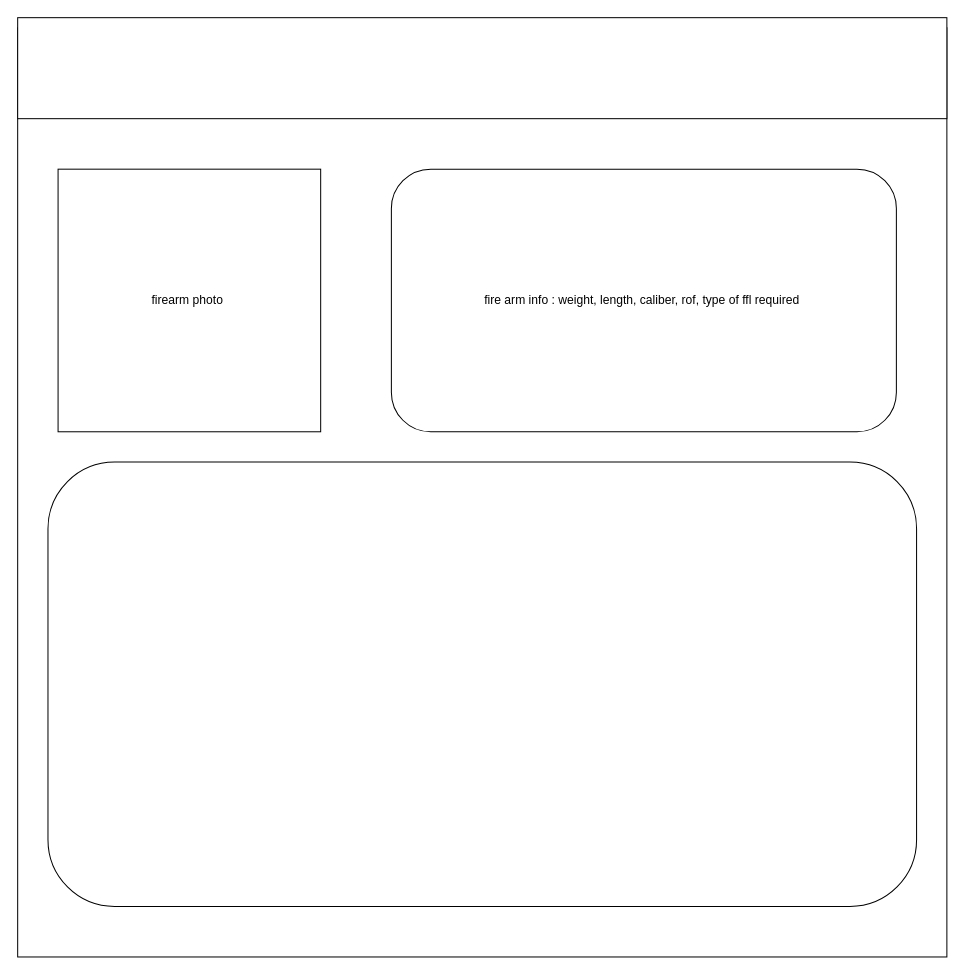
This 965x975 diagram has some shape labels left out. The shapes that lost their labels are listed below. From the top down, each one's centre as x and y in pixels, then its label:
point (482, 68): firearm data base
point (482, 683): breif history
